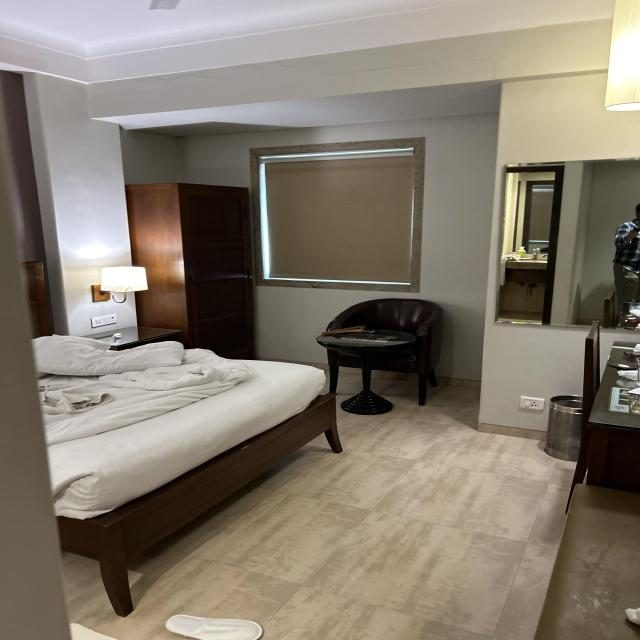mess: (0, 320, 322, 495)
